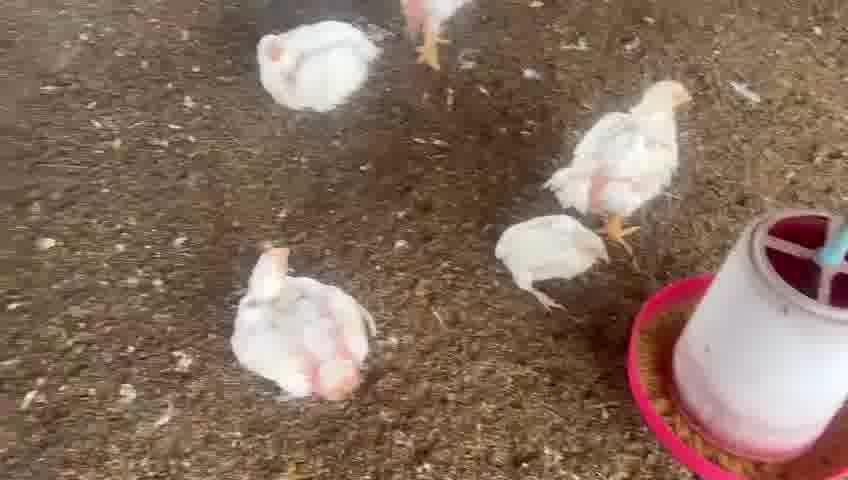AbNormal: (489, 186, 610, 311)
Normal: (550, 74, 704, 221), (236, 248, 378, 401), (244, 13, 384, 121)
